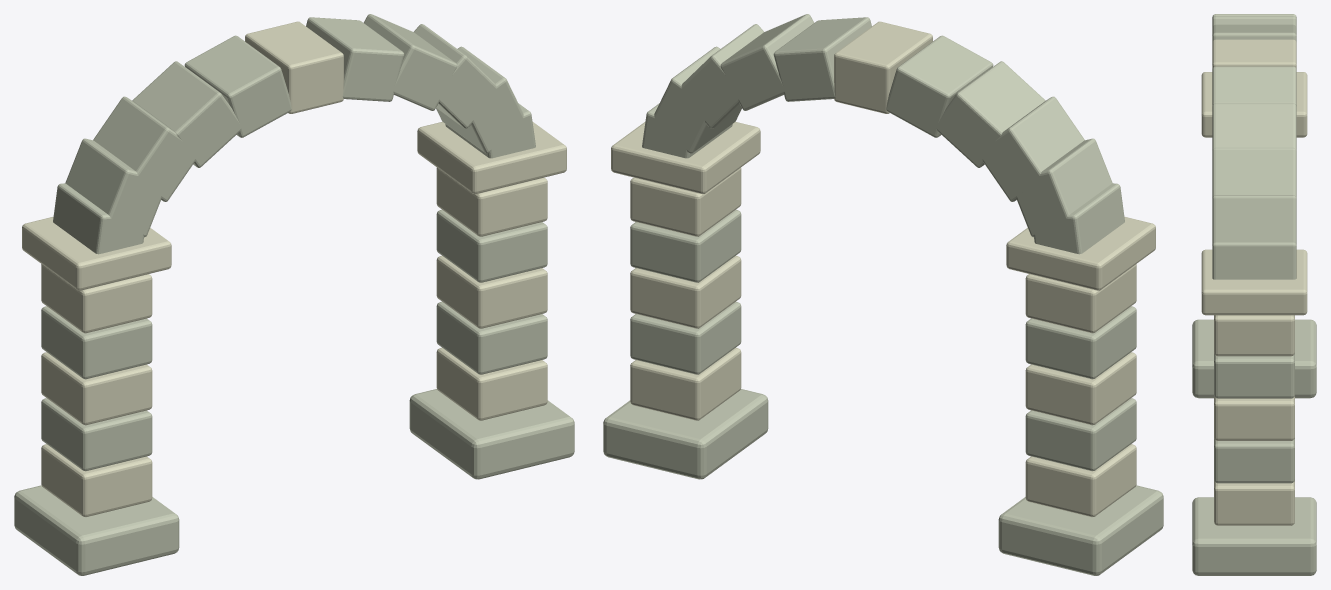
Rendered from RuinArch.fbx.
3 renders of one model, left to right at view 1: azimuth 30°, elevation 25°; view 2: azimuth 150°, elevation 25°; view 3: azimuth 270°, elevation 25°, orthographic. The views are drawn at different scales.
Visible parts, largest first — view 1: ArchFoot.001, ArchFoot, ArchSpring.001, ArchSpring, ArchVoussoir.007, ArchVoussoir.006, ArchVoussoir.008, ArchVoussoir.005, ArchVoussoir.009, ArchPier.001, ArchPier.002, ArchPier.003 (+13 smaller); view 2: ArchFoot.001, ArchFoot, ArchSpring.001, ArchSpring, ArchVoussoir.007, ArchVoussoir.006, ArchVoussoir.008, ArchVoussoir.005, ArchPier.001, ArchPier.002, ArchPier.003, ArchPier.005 (+13 smaller); view 3: ArchFoot.001, ArchSpring.001, ArchVoussoir.002, ArchVoussoir.001, ArchVoussoir.003, ArchPier.005, ArchPier.006, ArchPier.007, ArchPier.008, ArchFoot, ArchPier.009, ArchVoussoir (+6 smaller).
Part boxes in pixels (x1=…): ArchFoot.001: x1=409, y1=389, x2=574, y2=479; ArchFoot: x1=14, y1=485, x2=179, y2=575; ArchSpring.001: x1=417, y1=121, x2=566, y2=194; ArchSpring: x1=22, y1=216, x2=171, y2=290; ArchVoussoir.007: x1=132, y1=61, x2=241, y2=167; ArchVoussoir.006: x1=184, y1=35, x2=291, y2=137; ArchVoussoir.008: x1=93, y1=96, x2=195, y2=201; ArchVoussoir.005: x1=245, y1=21, x2=343, y2=113; ArchVoussoir.009: x1=65, y1=138, x2=165, y2=237; ArchPier.001: x1=41, y1=398, x2=152, y2=471; ArchPier.002: x1=41, y1=352, x2=152, y2=425; ArchPier.003: x1=41, y1=306, x2=152, y2=379; ArchFoot.001: x1=603, y1=389, x2=768, y2=479; ArchFoot: x1=998, y1=485, x2=1163, y2=575; ArchSpring.001: x1=611, y1=121, x2=760, y2=194; ArchSpring: x1=1006, y1=216, x2=1155, y2=290; ArchVoussoir.007: x1=936, y1=61, x2=1045, y2=167; ArchVoussoir.006: x1=886, y1=35, x2=993, y2=137; ArchVoussoir.008: x1=979, y1=96, x2=1084, y2=201; ArchVoussoir.005: x1=834, y1=21, x2=932, y2=113; ArchPier.001: x1=1025, y1=398, x2=1136, y2=471; ArchPier.002: x1=1025, y1=352, x2=1136, y2=425; ArchPier.003: x1=1025, y1=306, x2=1136, y2=379; ArchPier.005: x1=630, y1=347, x2=741, y2=420; ArchFoot.001: x1=1192, y1=497, x2=1316, y2=575; ArchSpring.001: x1=1201, y1=249, x2=1307, y2=315; ArchVoussoir.002: x1=1212, y1=147, x2=1296, y2=197; ArchVoussoir.001: x1=1212, y1=195, x2=1296, y2=242; ArchVoussoir.003: x1=1212, y1=103, x2=1296, y2=149; ArchPier.005: x1=1214, y1=480, x2=1294, y2=525; ArchPier.006: x1=1214, y1=438, x2=1294, y2=483; ArchPier.007: x1=1214, y1=395, x2=1294, y2=440; ArchPier.008: x1=1214, y1=353, x2=1294, y2=398; ArchFoot: x1=1192, y1=319, x2=1316, y2=398; ArchPier.009: x1=1214, y1=315, x2=1294, y2=356; ArchVoussoir: x1=1212, y1=241, x2=1296, y2=279.
Size of the model in its own units: 3.4 by 2.95 by 0.8.
